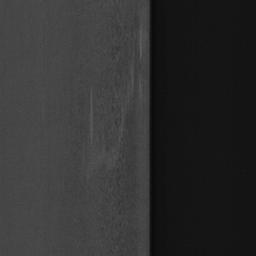Silk spot: (64, 0, 139, 215), (97, 205, 137, 256), (77, 213, 90, 243)
